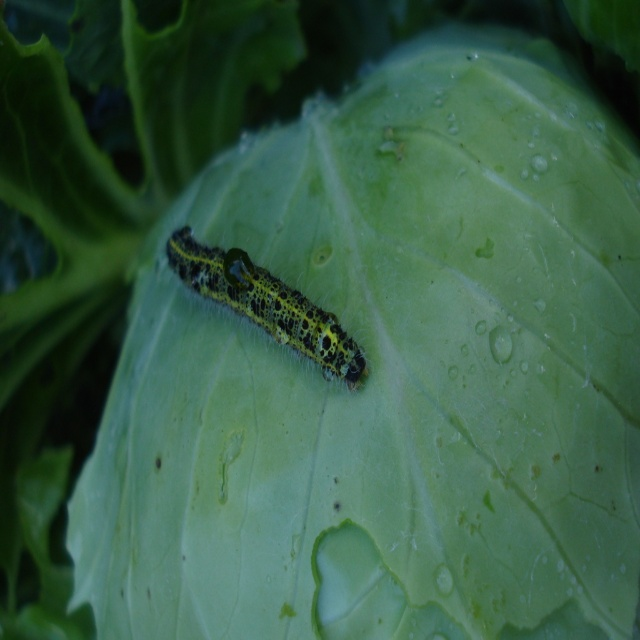Caterpillar: (164, 221, 370, 394)
